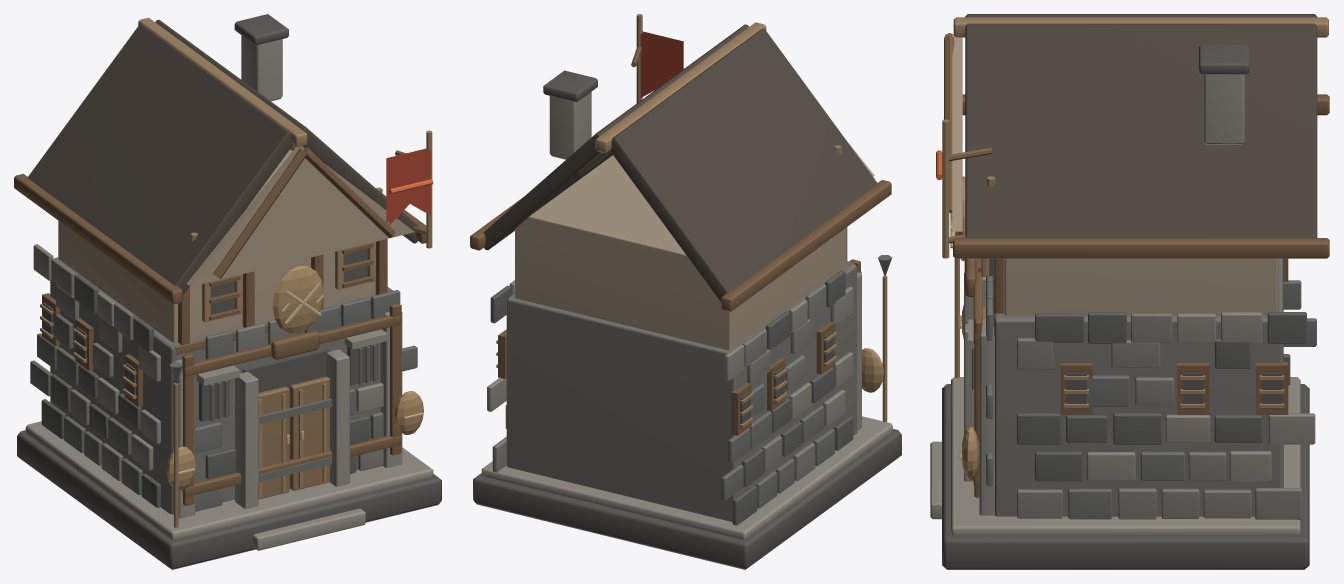
The model's file is quartel_medieval.glb.
3 renders of one model, left to right at view 1: azimuth 30°, elevation 25°; view 2: azimuth 150°, elevation 25°; view 3: azimuth 270°, elevation 25°, orthographic. The views are drawn at different scales.
Parts seen in each view (by area): view 1: Água do telhado, Frontão de madeira e reboco, Soleira de pedra, Salão de pedra, Pavimento superior em enxaimel, Piso elevado, Beiral de madeira, Ombreira de pedra, Folha direita da porta, Ombreira de pedra.001, Água do telhado.001, Bandeira vermelha do quartel (+60 smaller); view 2: Salão de pedra, Água do telhado, Pavimento superior em enxaimel, Soleira de pedra, Piso elevado, Água do telhado.001, Beiral de madeira, Chaminé de pedra, Bandeira vermelha do quartel, Cumeeira, Boca da chaminé, Lança de guarda (+26 smaller); view 3: Água do telhado.001, Salão de pedra, Pavimento superior em enxaimel, Soleira de pedra, Piso elevado, Beiral de madeira.001, Chaminé de pedra, Cumeeira, Pilastra frontal.001, Frontão de madeira e reboco, Pedra lateral irregular.042, Boca da chaminé (+44 smaller).
Part boxes in pixels (x1=…): Água do telhado: x1=27, y1=24, x2=292, y2=294; Frontão de madeira e reboco: x1=186, y1=146, x2=414, y2=286; Soleira de pedra: x1=17, y1=430, x2=441, y2=569; Salão de pedra: x1=50, y1=257, x2=392, y2=514; Pavimento superior em enxaimel: x1=58, y1=149, x2=375, y2=342; Piso elevado: x1=25, y1=421, x2=433, y2=539; Beiral de madeira: x1=14, y1=173, x2=182, y2=304; Ombreira de pedra: x1=235, y1=371, x2=258, y2=508; Folha direita da porta: x1=290, y1=376, x2=329, y2=490; Ombreira de pedra.001: x1=326, y1=349, x2=349, y2=486; Água do telhado.001: x1=155, y1=20, x2=417, y2=243; Bandeira vermelha do quartel: x1=386, y1=148, x2=430, y2=225; Salão de pedra: x1=506, y1=262, x2=857, y2=521; Água do telhado: x1=610, y1=28, x2=877, y2=302; Pavimento superior em enxaimel: x1=515, y1=155, x2=846, y2=350; Soleira de pedra: x1=473, y1=429, x2=901, y2=569; Piso elevado: x1=481, y1=416, x2=892, y2=539; Água do telhado.001: x1=483, y1=24, x2=748, y2=250; Beiral de madeira: x1=721, y1=180, x2=891, y2=311; Chaminé de pedra: x1=549, y1=92, x2=591, y2=159; Bandeira vermelha do quartel: x1=640, y1=31, x2=683, y2=97; Cumeeira: x1=595, y1=22, x2=766, y2=153; Boca da chaminé: x1=543, y1=70, x2=597, y2=102; Lança de guarda: x1=882, y1=276, x2=887, y2=421; Água do telhado.001: x1=965, y1=23, x2=1317, y2=238; Salão de pedra: x1=993, y1=258, x2=1283, y2=516; Pavimento superior em enxaimel: x1=1004, y1=258, x2=1278, y2=315; Soleira de pedra: x1=942, y1=384, x2=1309, y2=569; Piso elevado: x1=951, y1=377, x2=1300, y2=535; Beiral de madeira.001: x1=953, y1=238, x2=1329, y2=258; Chaminé de pedra: x1=1203, y1=74, x2=1244, y2=144; Cumeeira: x1=953, y1=17, x2=1328, y2=37; Pilastra frontal.001: x1=979, y1=326, x2=994, y2=515; Frontão de madeira e reboco: x1=952, y1=34, x2=962, y2=231; Pedra lateral irregular.042: x1=1113, y1=413, x2=1161, y2=444; Boca da chaminé: x1=1199, y1=44, x2=1249, y2=74.
Size of the model in its own units: 2.88 by 4.11 by 3.09.
